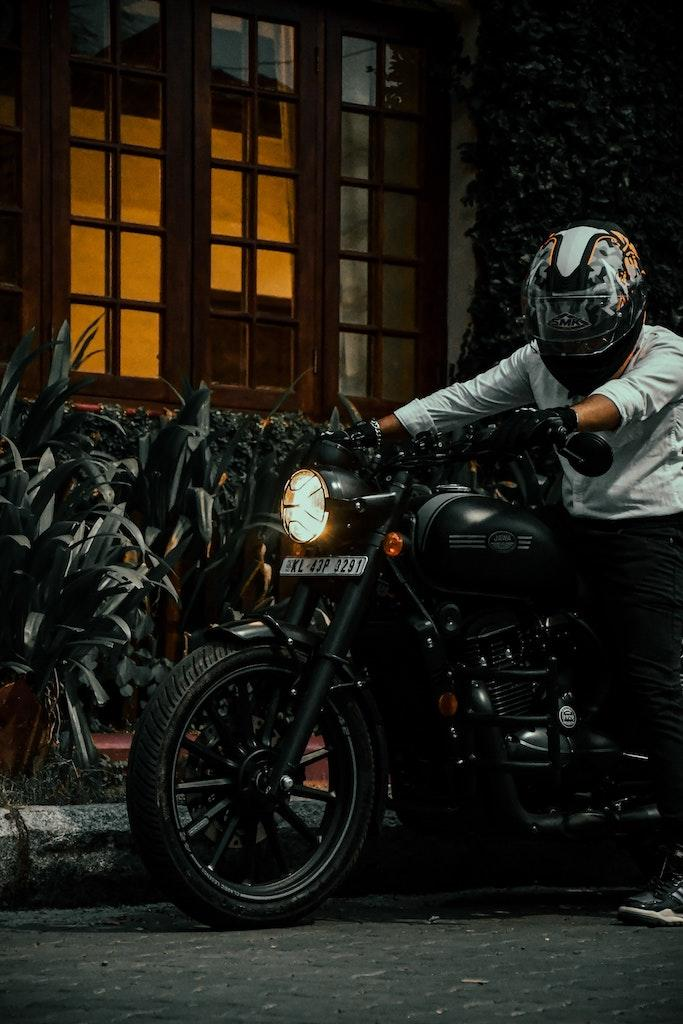helmet: (520, 217, 649, 401)
